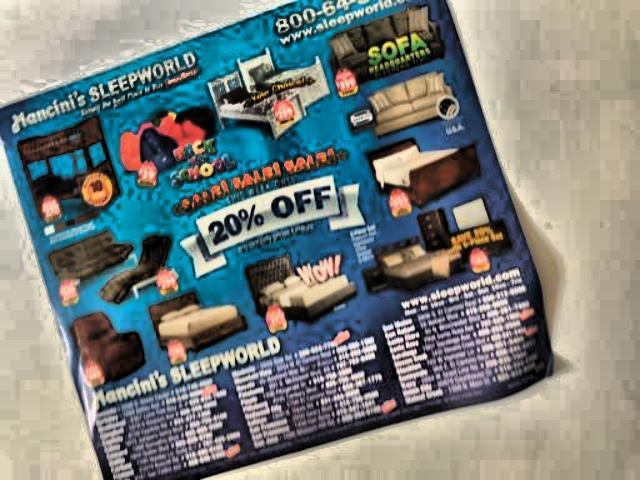Paper: (0, 0, 578, 480)
